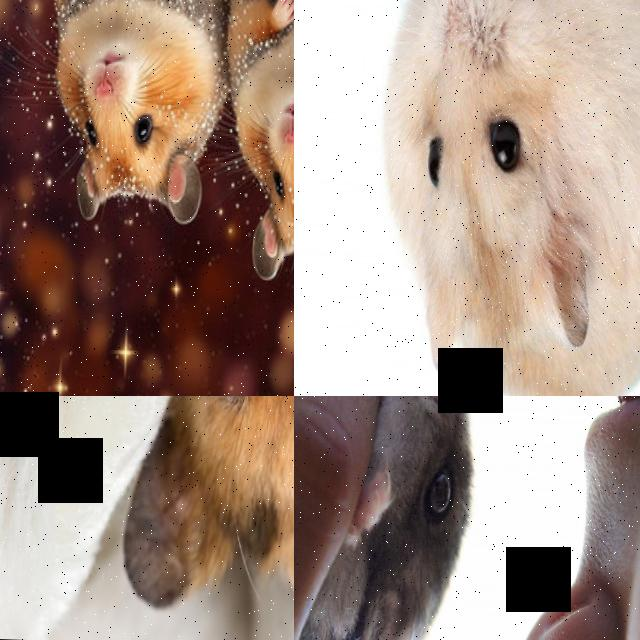hamster: (372, 0, 640, 396), (41, 0, 243, 233), (113, 396, 294, 629), (314, 396, 482, 640), (220, 0, 294, 288)
